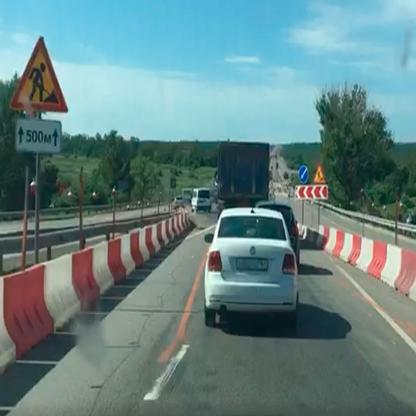road_sign: (11, 36, 67, 114), (313, 164, 326, 184), (299, 164, 308, 184)
